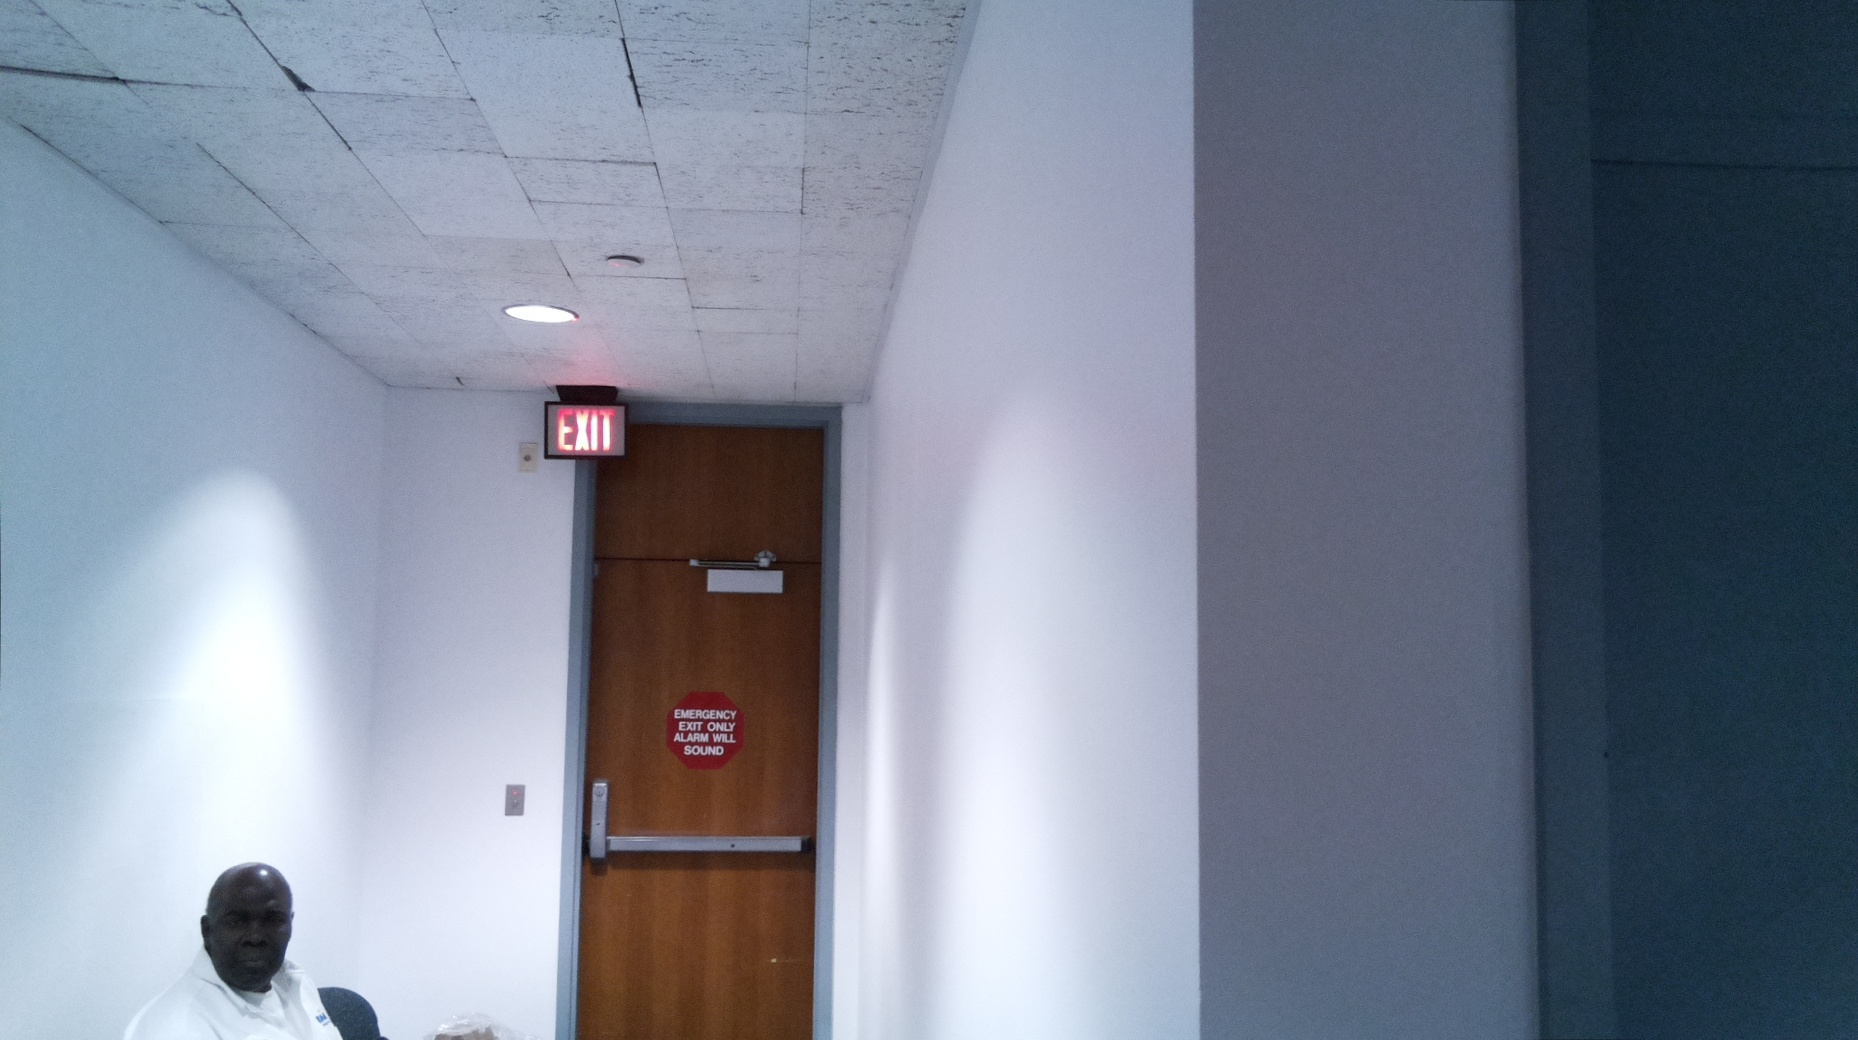exit sign: (541, 398, 634, 466)
